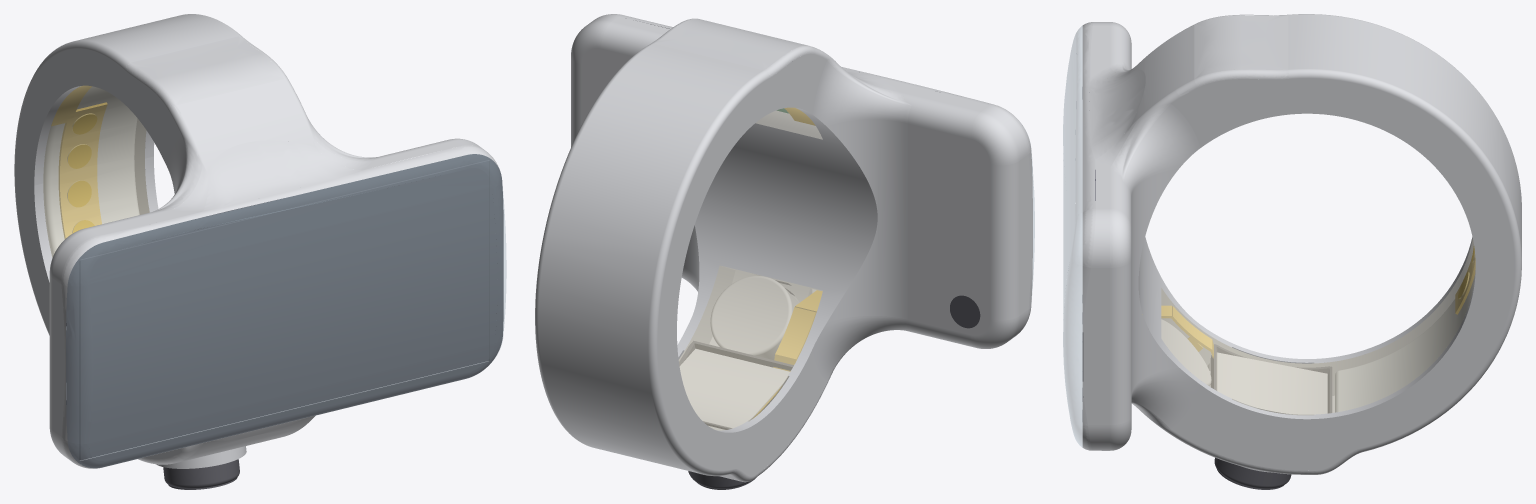
File: thin-inside.glb
The picture shows the model from 3 angles, left to right: view 1: azimuth 30°, elevation 25°; view 2: azimuth 150°, elevation 25°; view 3: azimuth 270°, elevation 25°; orthographic projection. The views are drawn at different scales.
Parts seen in each view (by area): view 1: cover_glass__glass, clear_adhesive__polymer, outer_body__metal, glass_seal__polymer, band_liner__resin, cell__cell, band_flex_away__flex, joystick_cap__polymer, joystick_frame__metal, pad_D+__gold; view 2: outer_body__metal, band_liner__resin, band_flex_thumb__metal, vibration_motor__metal, band_flex_thumb__flex, joystick_dam__polymer, mic_membrane_1__polymer, joystick_cap__polymer; view 3: outer_body__metal, band_liner__resin, cover_glass__glass, cell__cell, band_flex_thumb__metal, vibration_motor__metal, joystick_cap__polymer, joystick_dam__polymer, band_flex_thumb__flex.
Boxes of the visible parts, x1,y1,x2,y2 form: cover_glass__glass: (66,154,506,467); clear_adhesive__polymer: (79,160,489,460); outer_body__metal: (14,14,503,468); glass_seal__polymer: (66,154,503,468); band_liner__resin: (43,85,149,257); cell__cell: (43,86,139,257); band_flex_away__flex: (51,85,107,238); joystick_cap__polymer: (163,459,239,489); joystick_frame__metal: (156,446,246,468); pad_D+__gold: (67,180,91,207); outer_body__metal: (535,14,1032,482); band_liner__resin: (678,107,822,430); band_flex_thumb__metal: (679,349,789,427); vibration_motor__metal: (710,275,798,359); band_flex_thumb__flex: (752,290,822,418); joystick_dam__polymer: (679,341,793,429); mic_membrane_1__polymer: (950,295,980,328); joystick_cap__polymer: (688,471,756,489); outer_body__metal: (1082,14,1521,474); band_liner__resin: (1161,239,1475,415); cover_glass__glass: (1063,26,1082,447); cell__cell: (1258,79,1474,412); band_flex_thumb__metal: (1217,352,1327,415); vibration_motor__metal: (1161,319,1211,385); joystick_cap__polymer: (1214,457,1291,489); joystick_dam__polymer: (1210,344,1332,413); band_flex_thumb__flex: (1161,305,1213,358).
Size of the model in its own units: 29.3 by 27.2 by 25.8.
